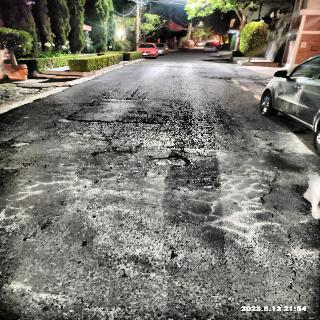alligator-crack: (60, 122, 148, 156), (168, 96, 219, 146)
crack: (253, 166, 286, 215), (125, 80, 144, 103)
pothole: (153, 146, 197, 176), (194, 68, 272, 83), (1, 134, 40, 155)
